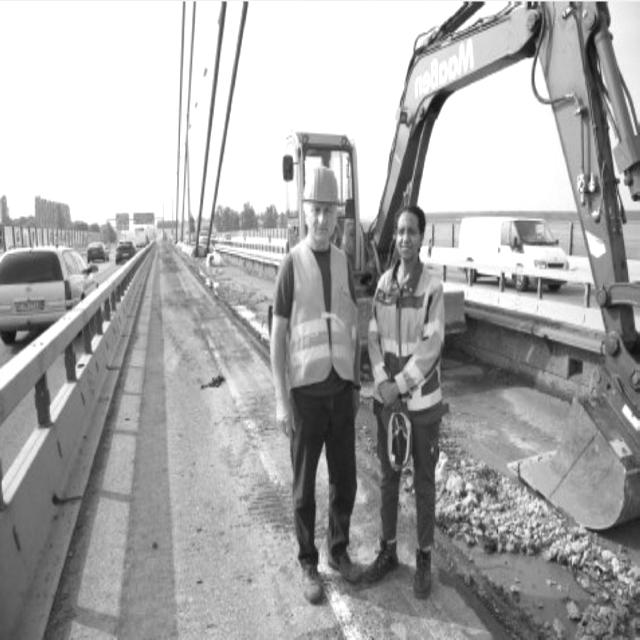face_nomask: (304, 202, 338, 244), (394, 224, 419, 261)
hand_noglove: (376, 370, 404, 414), (273, 385, 295, 437)
head_helmet: (297, 166, 346, 206)
head_nohelmet: (394, 198, 430, 229)
person: (279, 162, 357, 576), (361, 205, 444, 587)
shoes: (364, 541, 401, 589), (328, 538, 362, 587), (297, 558, 328, 606), (413, 542, 436, 598)
vest: (274, 245, 356, 398), (366, 262, 442, 406)
